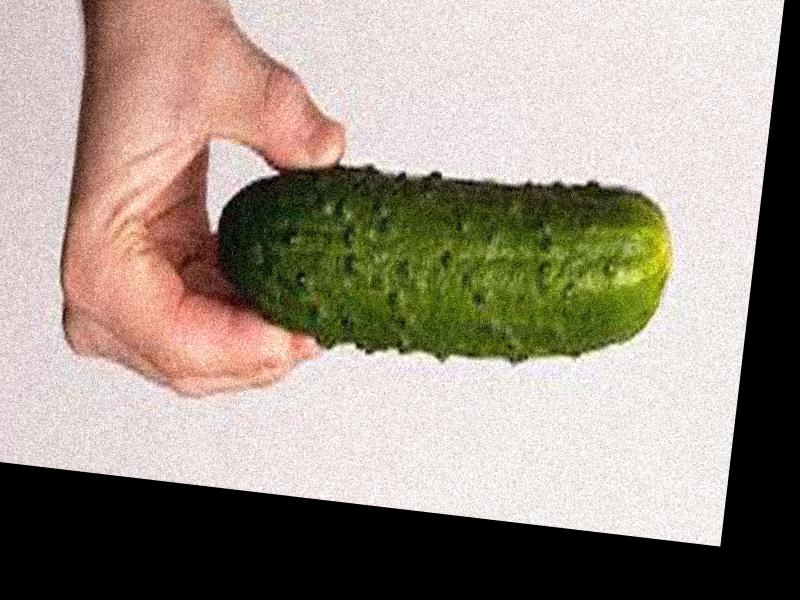Cucumber: (205, 155, 674, 382)
